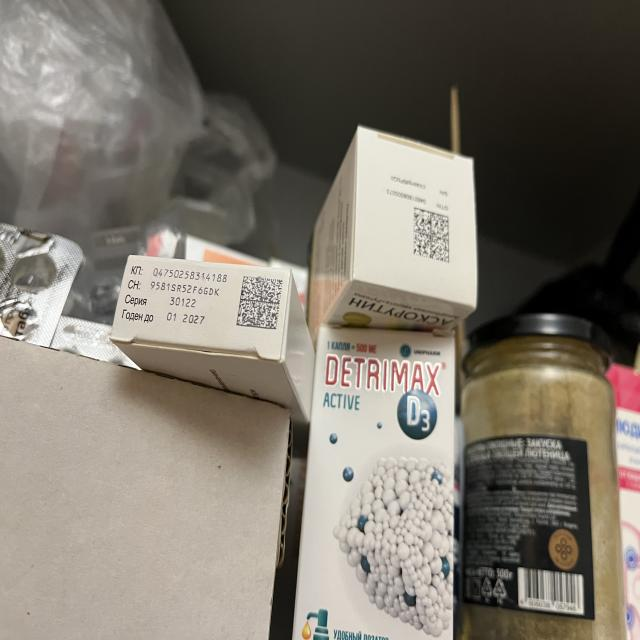datamatrix: (237, 276, 284, 331), (414, 208, 451, 265)
